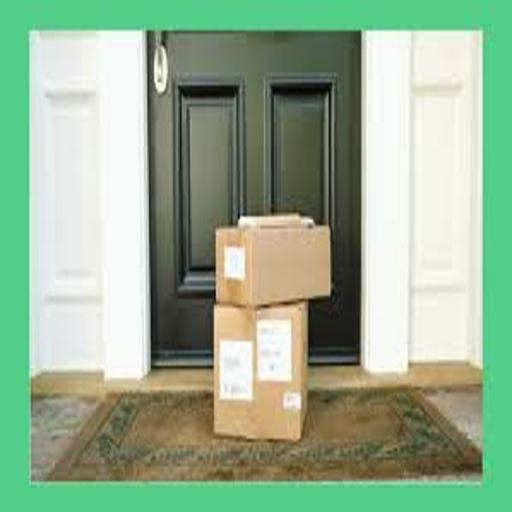Other: (212, 302, 315, 447), (215, 216, 343, 309)
